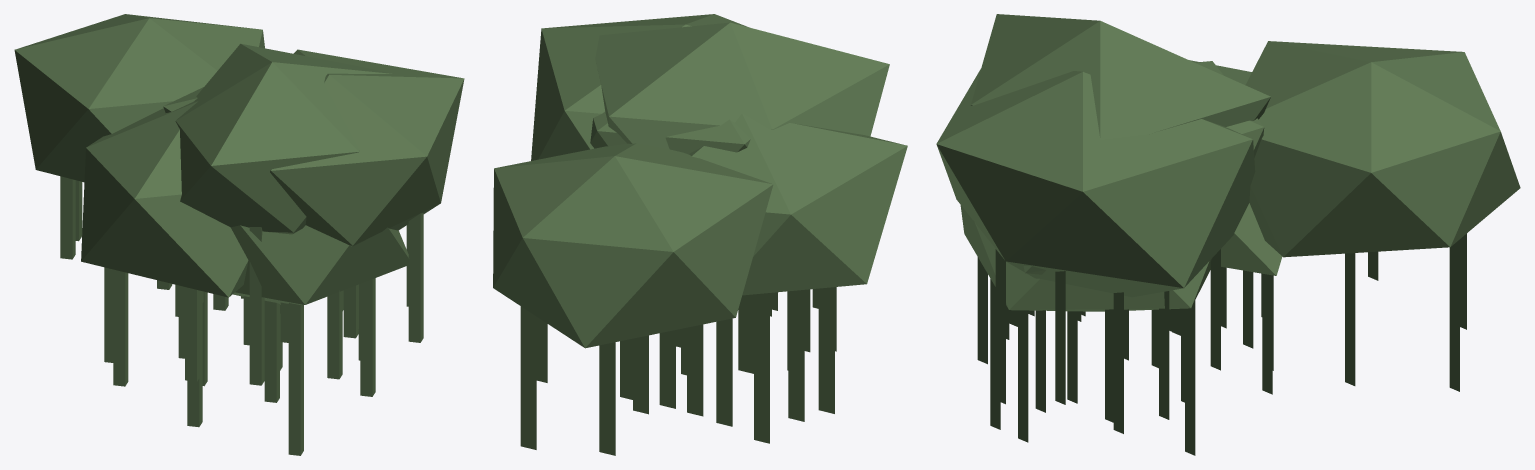
The model's file is tree_willow_s_crown.fbx.
3 renders of one model, left to right at view 1: azimuth 30°, elevation 25°; view 2: azimuth 150°, elevation 25°; view 3: azimuth 270°, elevation 25°, orthographic. The views are drawn at different scales.
Parts seen in each view (by area): view 1: tree_willow_s_crown; view 2: tree_willow_s_crown; view 3: tree_willow_s_crown.
Boxes of the visible parts, x1,y1,x2,y2 form: tree_willow_s_crown: (14, 14, 464, 455); tree_willow_s_crown: (493, 14, 907, 455); tree_willow_s_crown: (936, 14, 1520, 455).
Size of the model in its own units: 948 by 933 by 1189.
